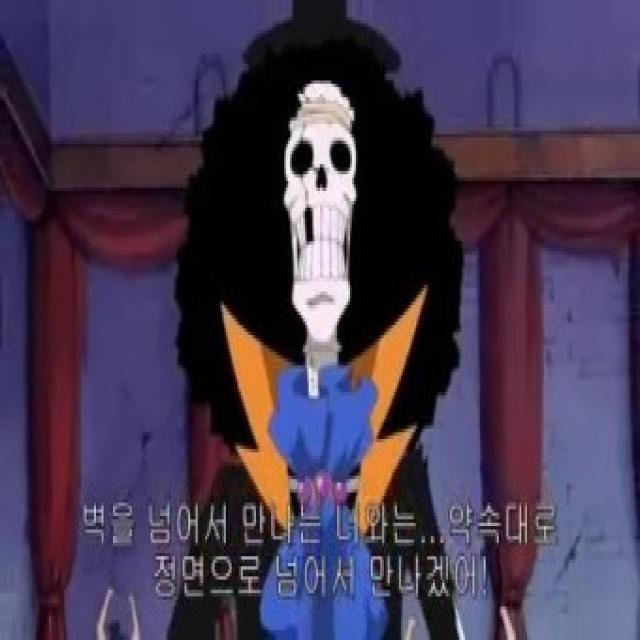Blook: (210, 37, 427, 405)
